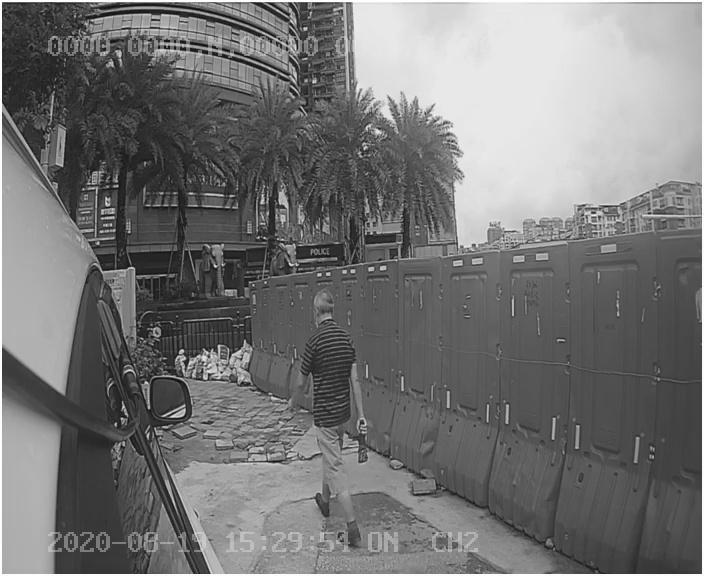person: (281, 291, 390, 531)
